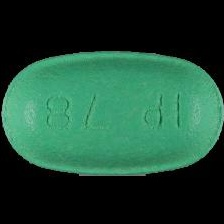53746-078: (0, 0, 224, 224)
